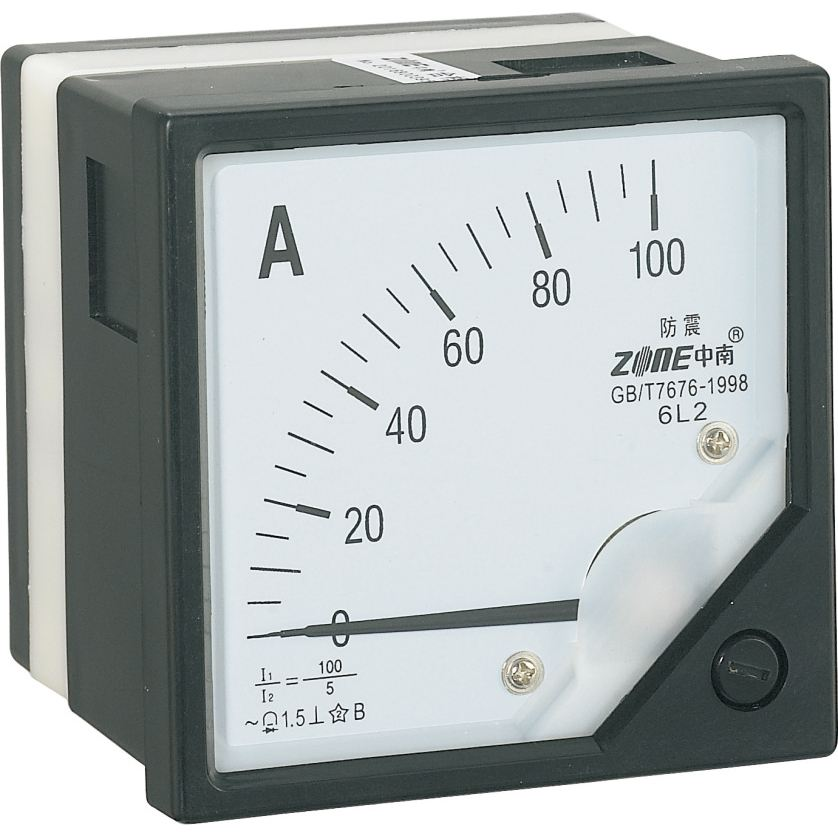pointer: (188, 111, 800, 783)
